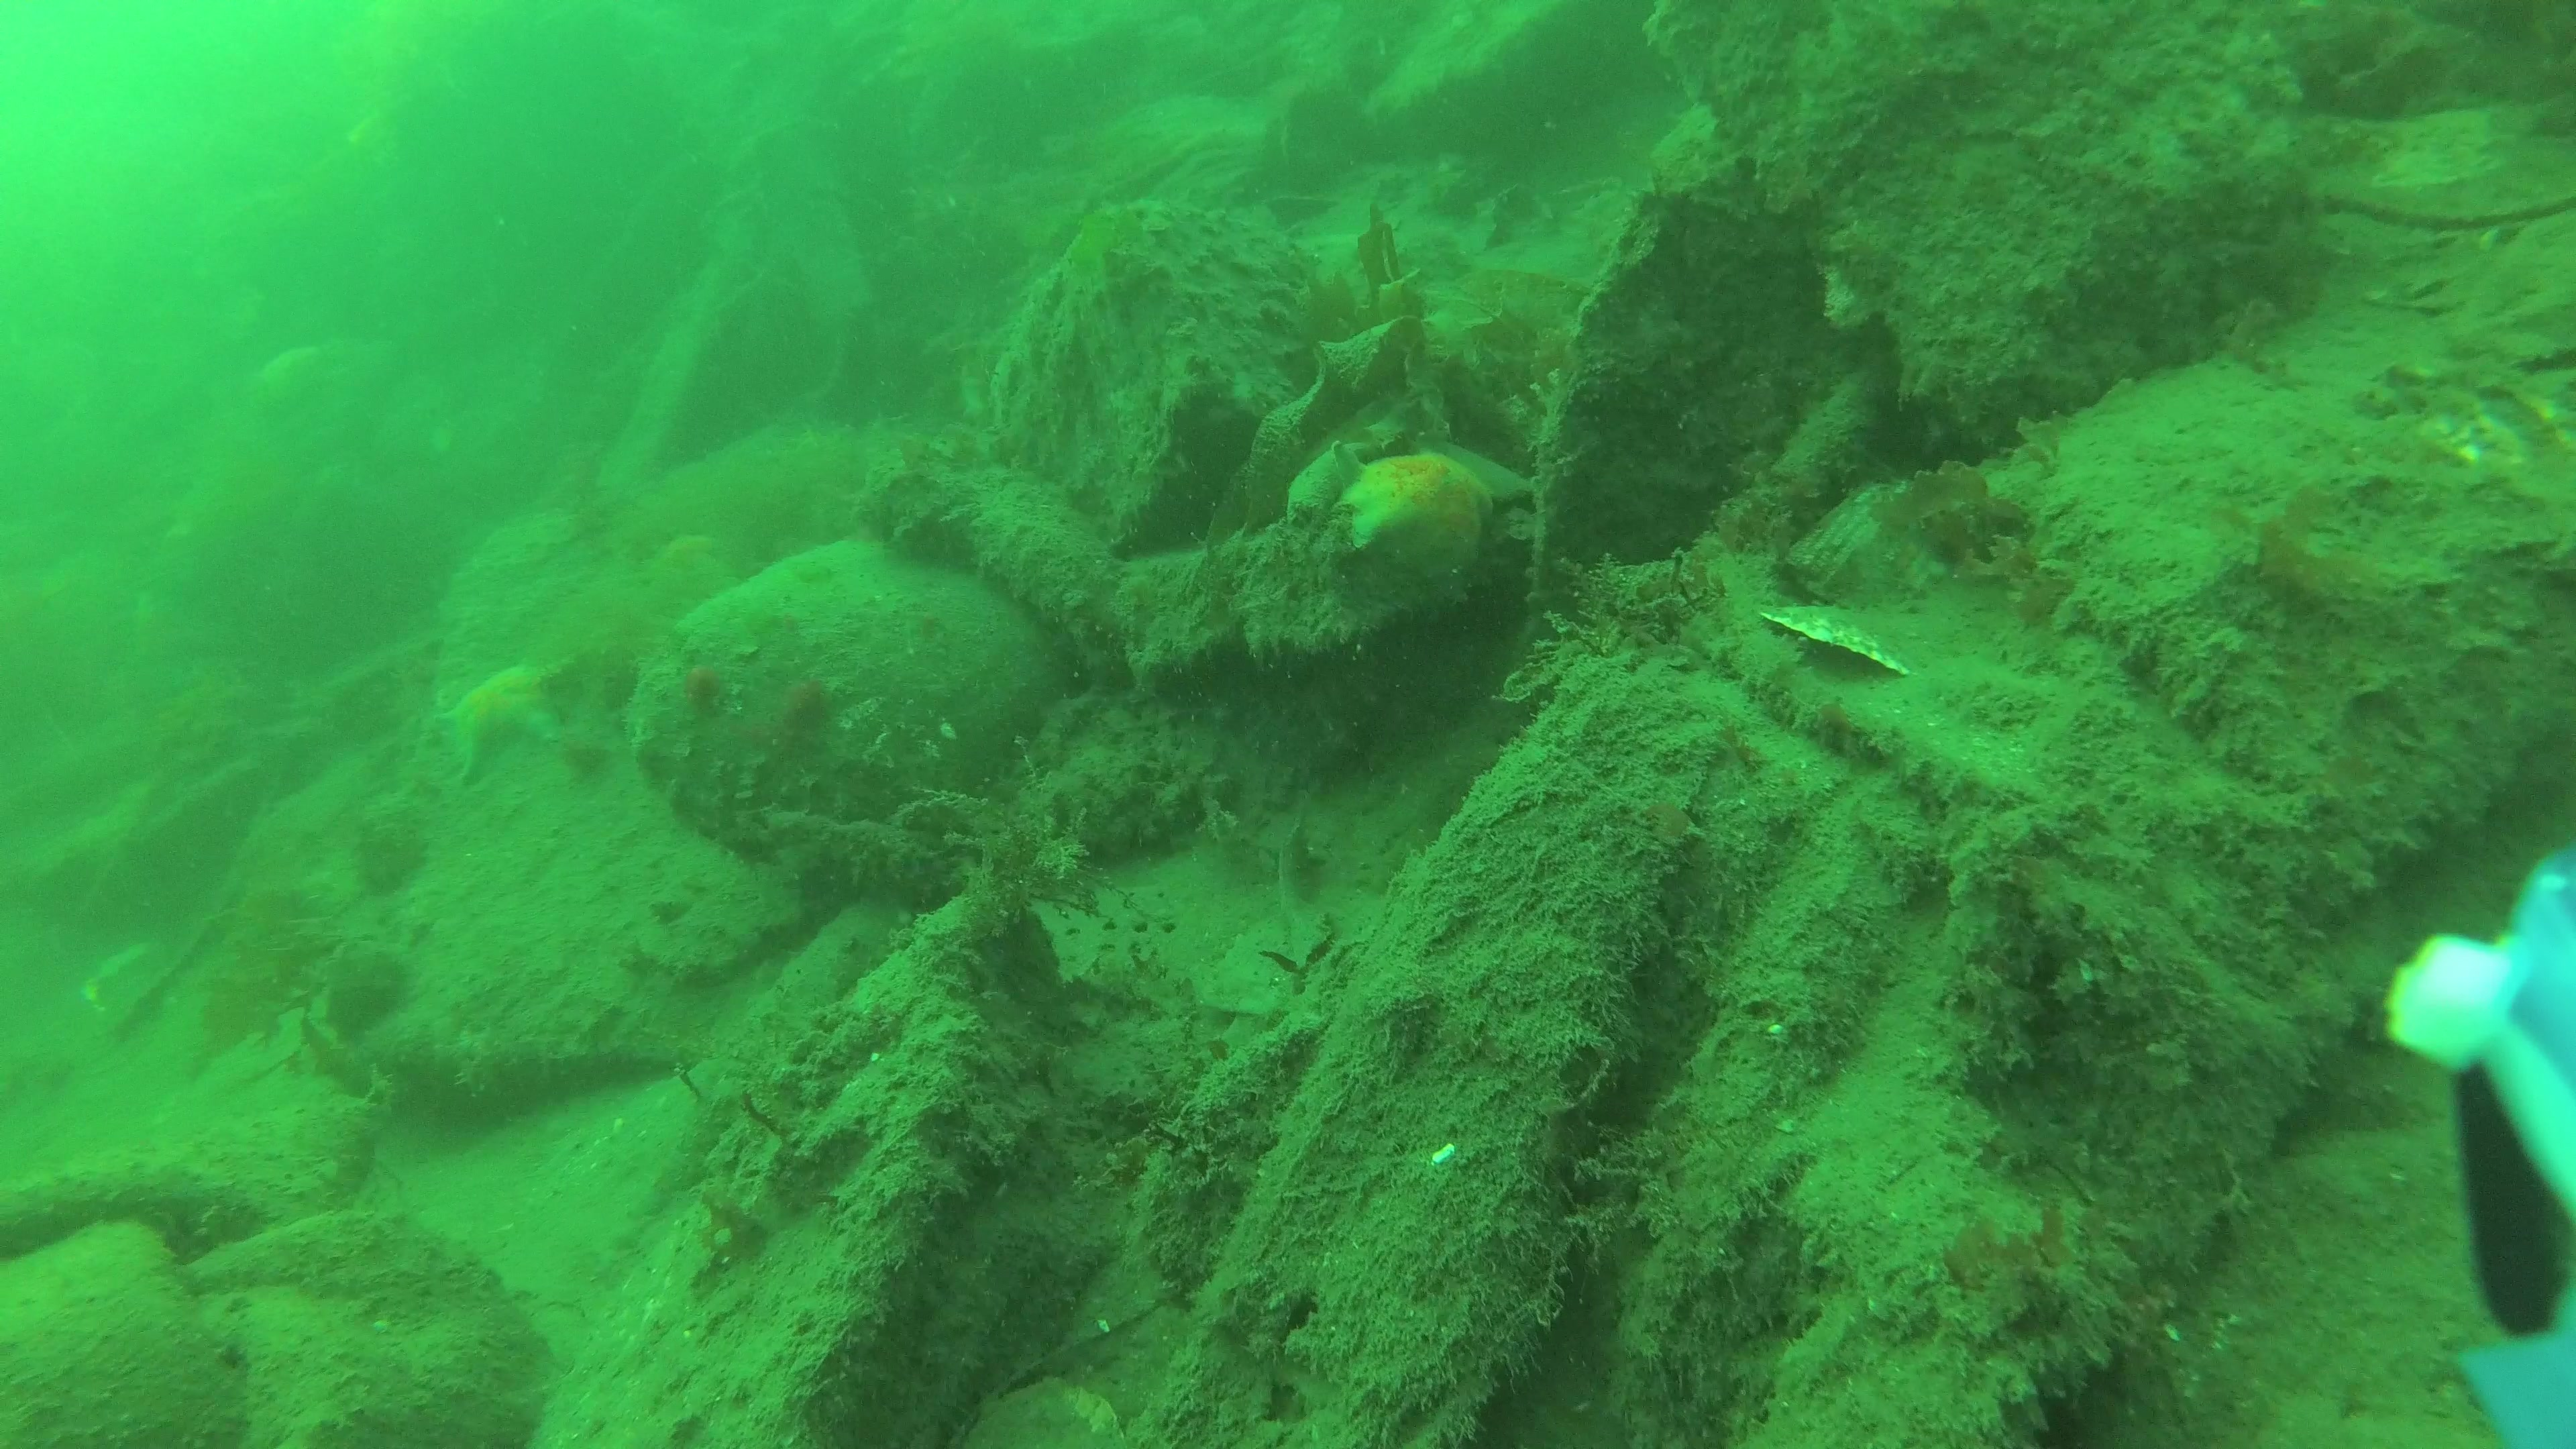scallop: (1757, 596, 1913, 692)
starfish: (1325, 449, 1491, 568), (441, 658, 577, 782)
